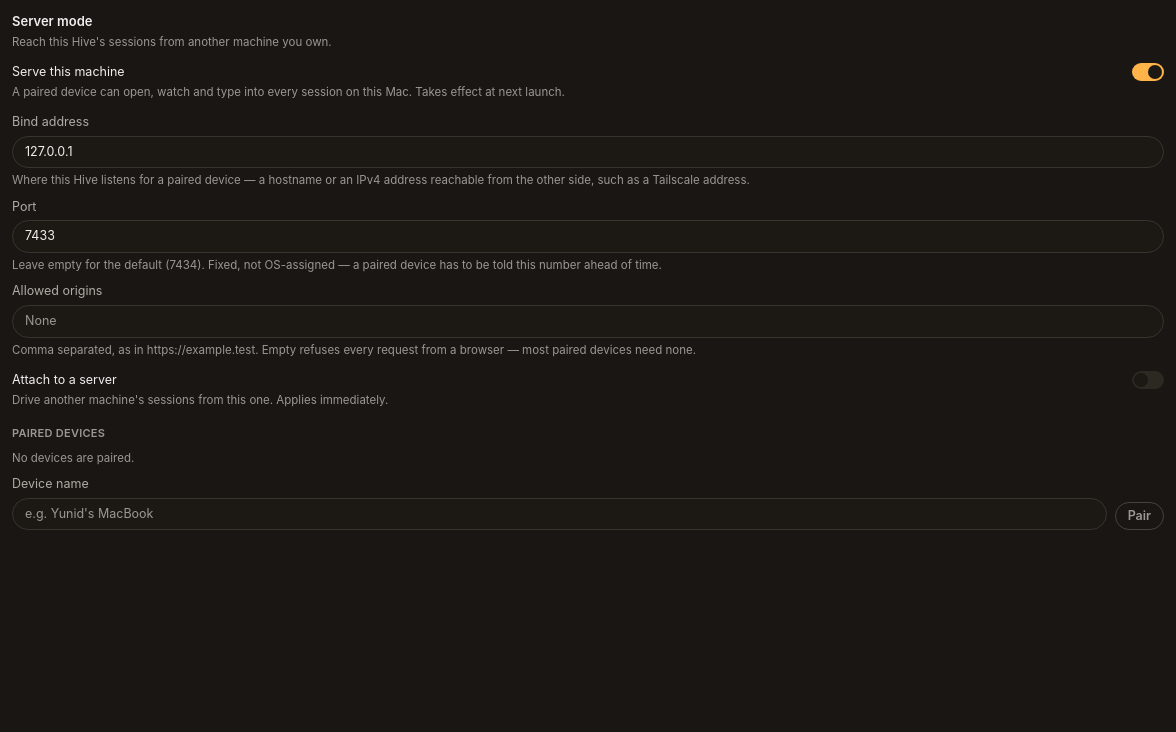
it: ServerModeGroup › the bind fields › refuses a port out of range
Replace the text in the field labelled "Port" with "99999". click: (588, 237)
box: x1=12 y1=220 x2=1164 y2=253
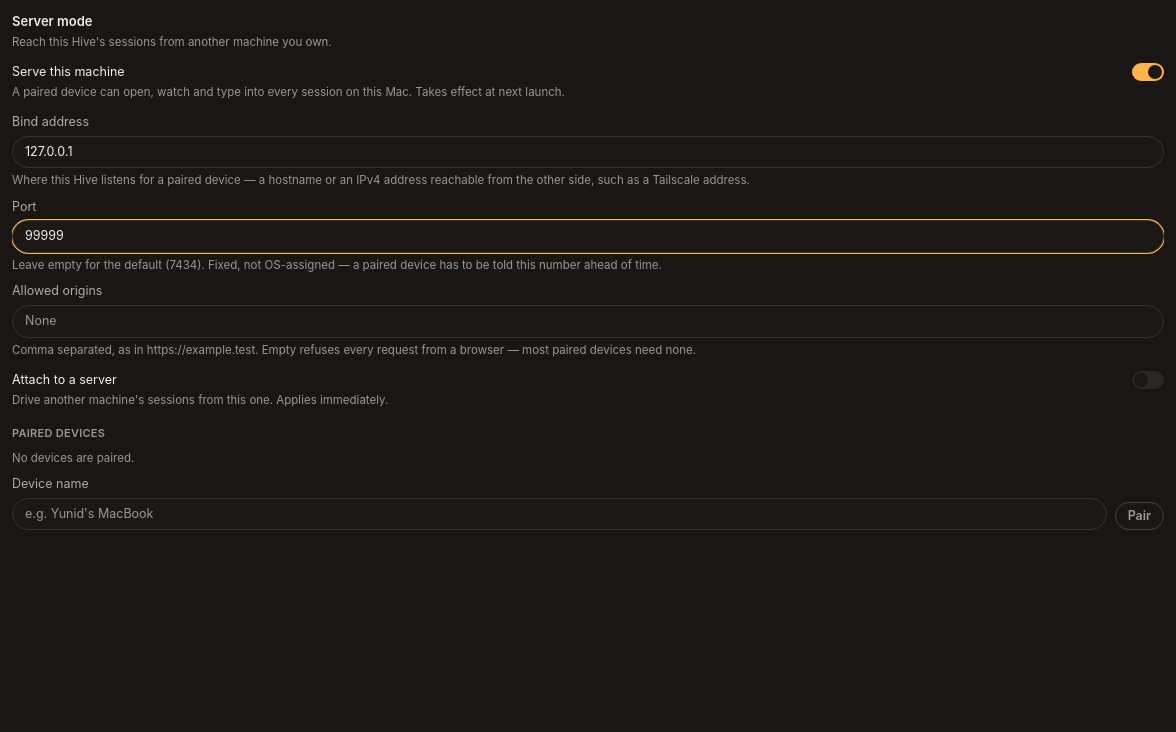
Press Tab
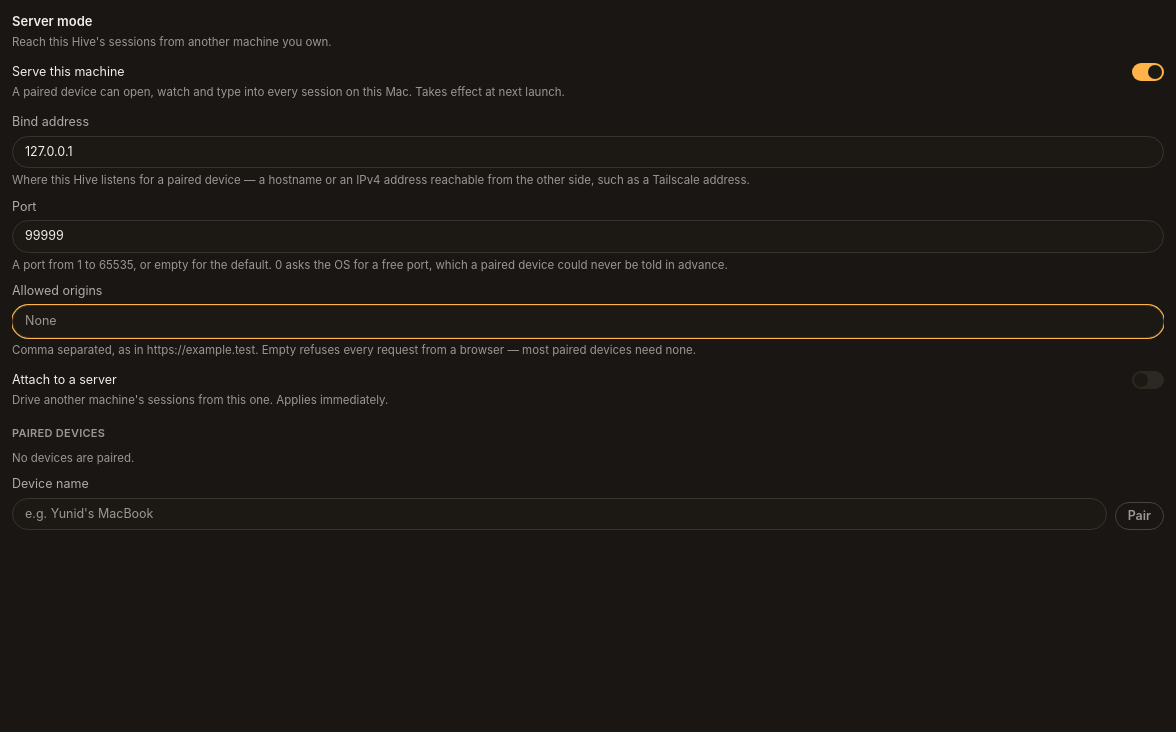
Expected: the text "port from 1 to 65535" is shown, x1=12 y1=258 x2=728 y2=272
